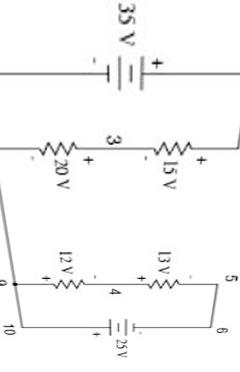Battery: (79, 46, 178, 105)
